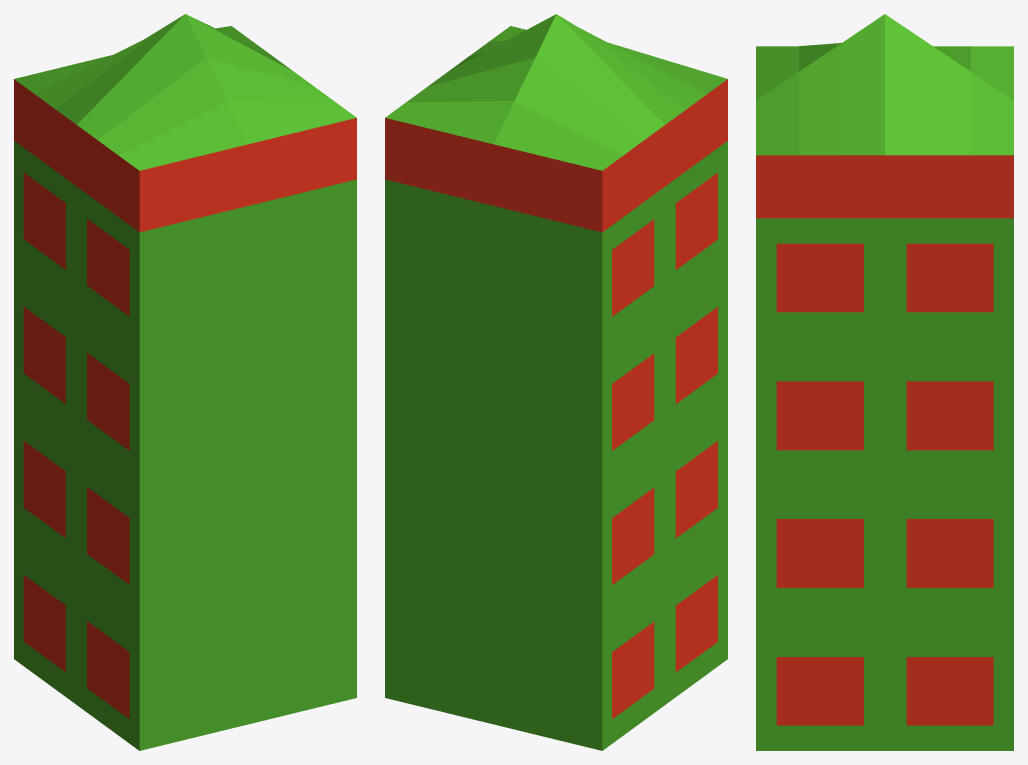
The model's file is Building11.fbx.
The picture shows the model from 3 angles, left to right: view 1: azimuth 30°, elevation 25°; view 2: azimuth 150°, elevation 25°; view 3: azimuth 270°, elevation 25°; orthographic projection. The views are drawn at different scales.
Parts seen in each view (by area): view 1: Cube; view 2: Cube; view 3: Cube.
Part boxes in pixels (<box>): Cube: <box>14,14,356,750</box>; Cube: <box>385,14,727,750</box>; Cube: <box>756,14,1013,750</box>.
Size of the model in its own units: 314 by 918 by 314.
